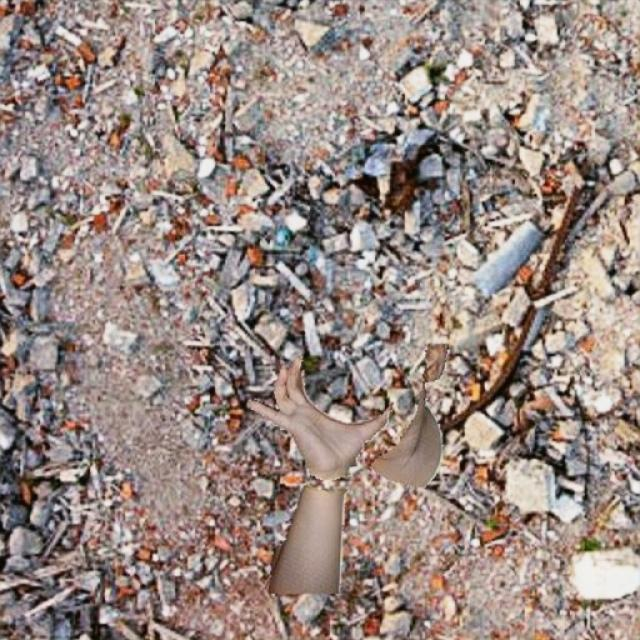Person in Rubble: (249, 343, 449, 592)
